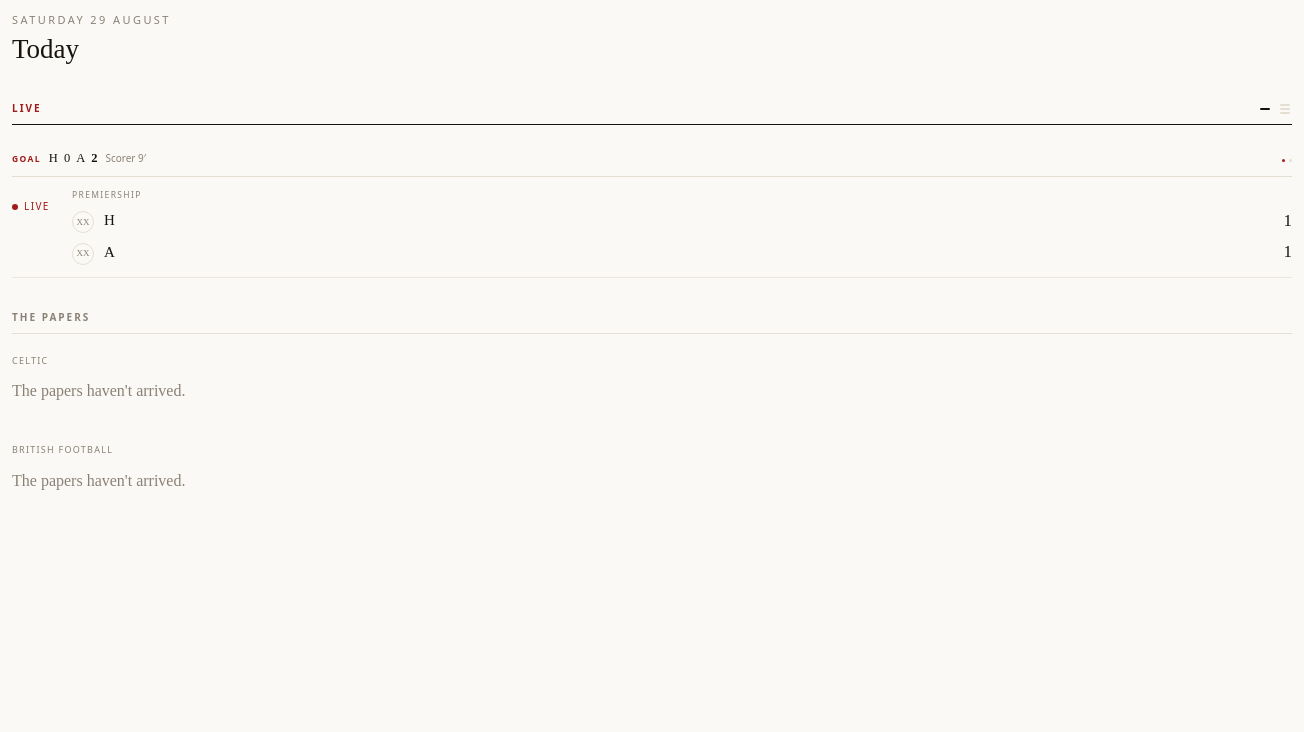
the wire toggle sits on the Live rule and flips line to stack, the choice stored
Click the button named "The goal stack": (1284, 108) [1276, 100, 1292, 118]
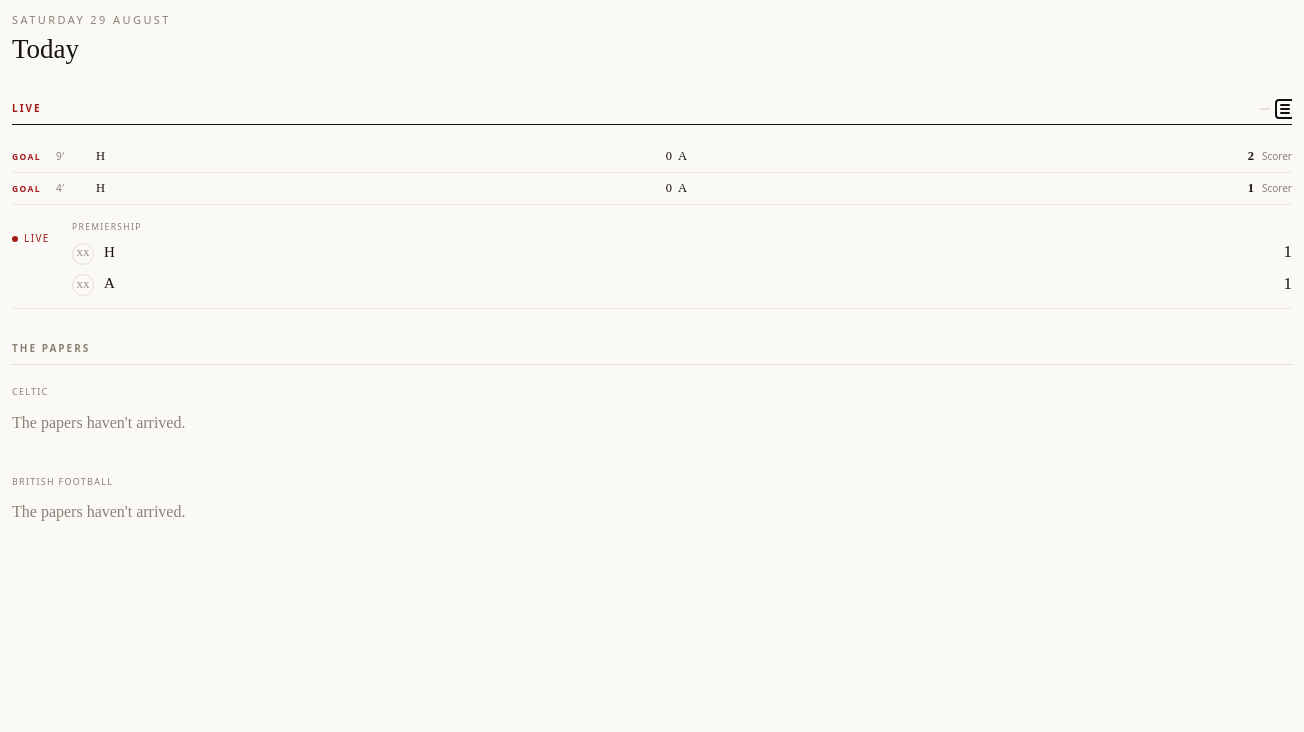
Expected: the number of links with test id "wire-row" is 2, [12, 141, 1292, 173]; [12, 173, 1292, 205]
Click the button named "The revolving line": (1265, 108) [1256, 104, 1274, 114]
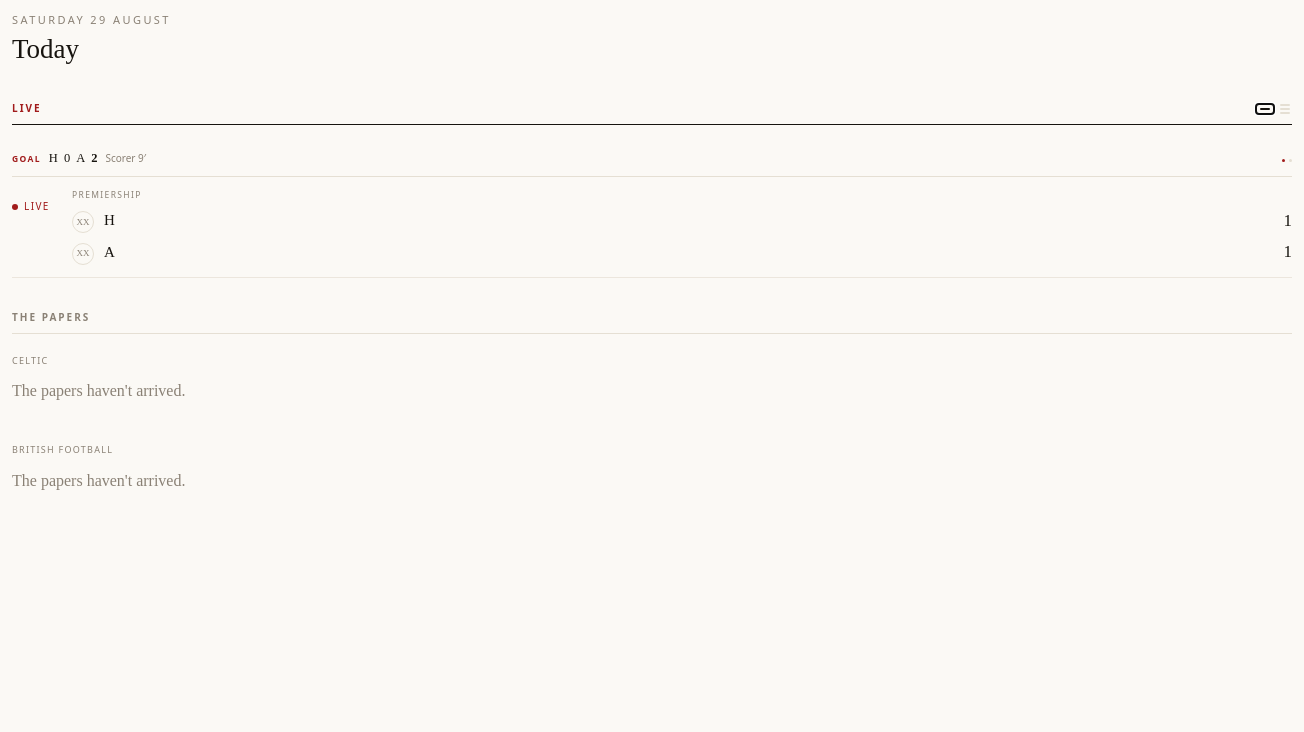
Expected: no links with test id "wire-row" are shown
